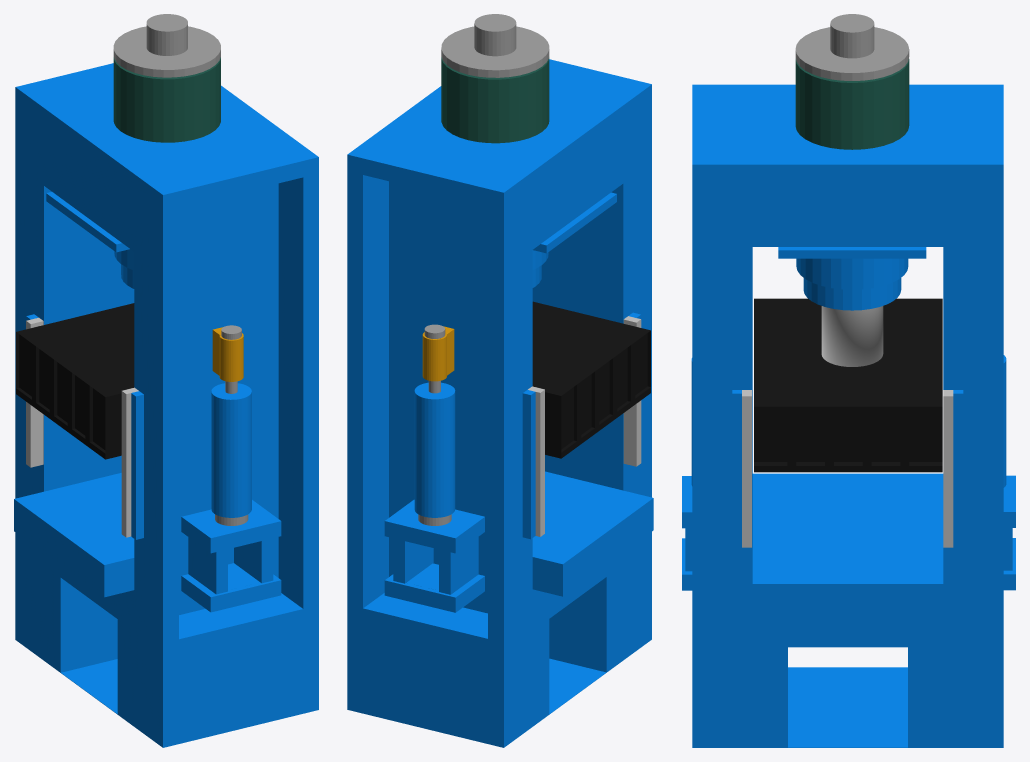
Rendered from press.glb.
The picture shows the model from 3 angles, left to right: view 1: azimuth 30°, elevation 25°; view 2: azimuth 150°, elevation 25°; view 3: azimuth 270°, elevation 25°; orthographic projection. The views are drawn at different scales.
Parts seen in each view (by area): view 1: Cube.010, Cylinder.006; view 2: Cube.010, Cylinder.006; view 3: Cube.010, Cylinder.006.
Boxes of the visible parts, bbox=[...] form: Cube.010: bbox=[14, 14, 318, 747]; Cylinder.006: bbox=[16, 303, 134, 459]; Cube.010: bbox=[347, 14, 653, 747]; Cylinder.006: bbox=[532, 301, 650, 458]; Cube.010: bbox=[682, 14, 1015, 747]; Cylinder.006: bbox=[754, 298, 942, 472].
Size of the model in its own units: 5.64 by 16.38 by 7.23.
